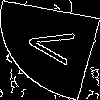V: (25, 25, 86, 68)
